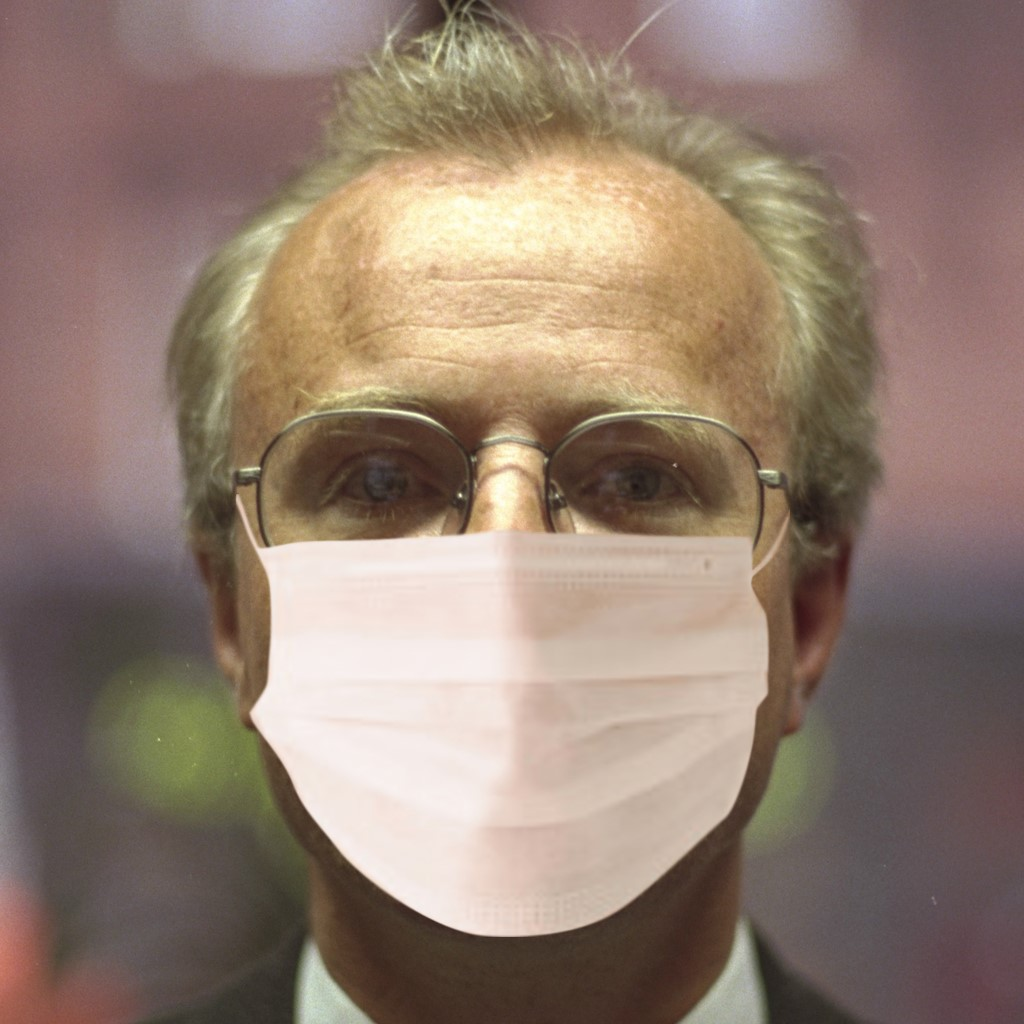con_mascara: (201, 173, 830, 940)
